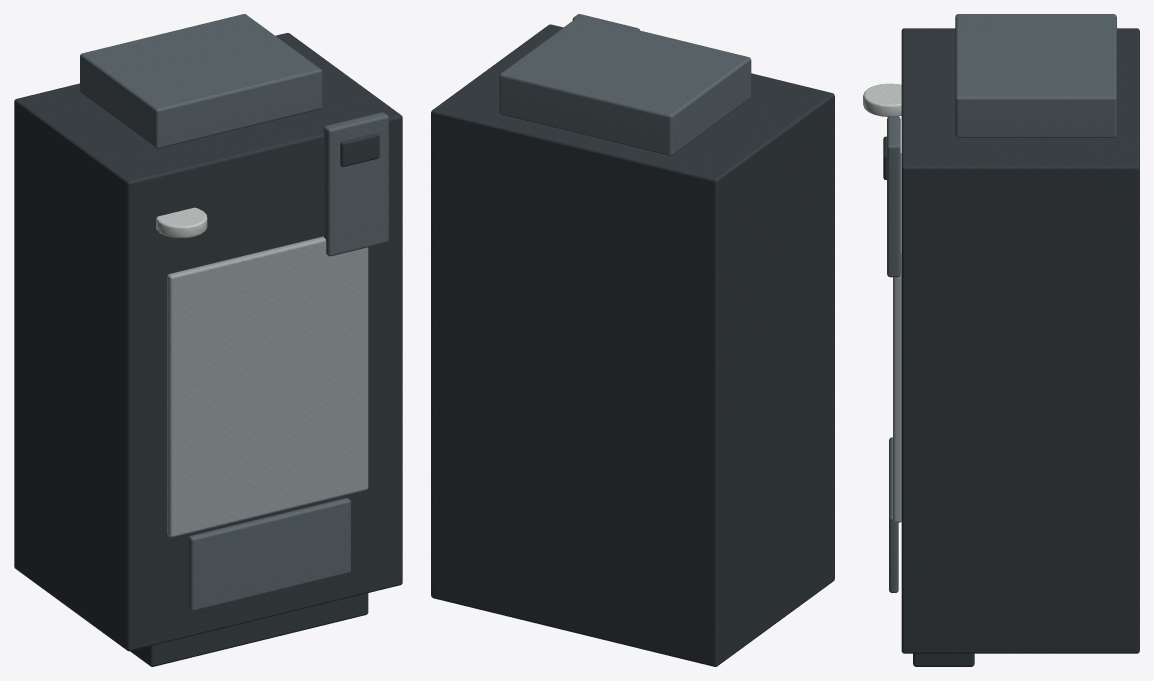
The model's file is MobileAirScrubber.fbx.
3 renders of one model, left to right at view 1: azimuth 30°, elevation 25°; view 2: azimuth 150°, elevation 25°; view 3: azimuth 270°, elevation 25°, orthographic. The views are drawn at different scales.
Visible parts, largest first — view 1: MobileAirScrubber_Mesh; view 2: MobileAirScrubber_Mesh; view 3: MobileAirScrubber_Mesh.
Part boxes in pixels (x1=…): MobileAirScrubber_Mesh: x1=14, y1=14, x2=402, y2=666; MobileAirScrubber_Mesh: x1=431, y1=14, x2=834, y2=666; MobileAirScrubber_Mesh: x1=863, y1=14, x2=1139, y2=666.
Bounding box in the file's own units: 86 × 160 × 72.
Materials: 4 (4 with a texture image).
